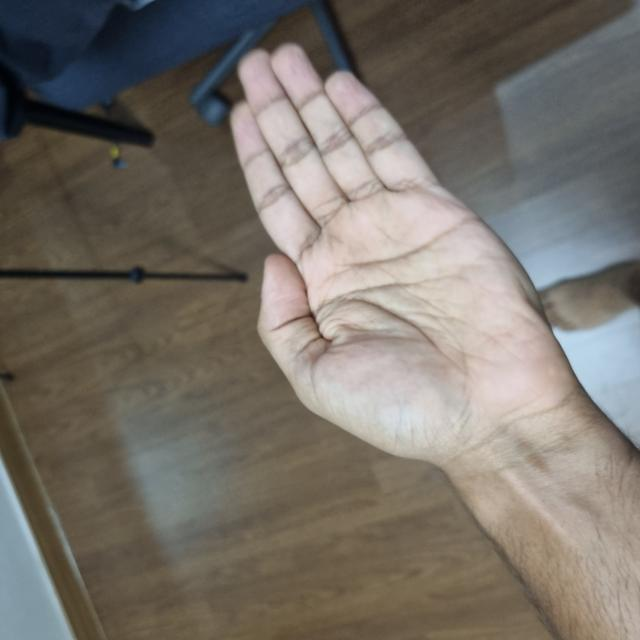Paper: (218, 228, 621, 560)
